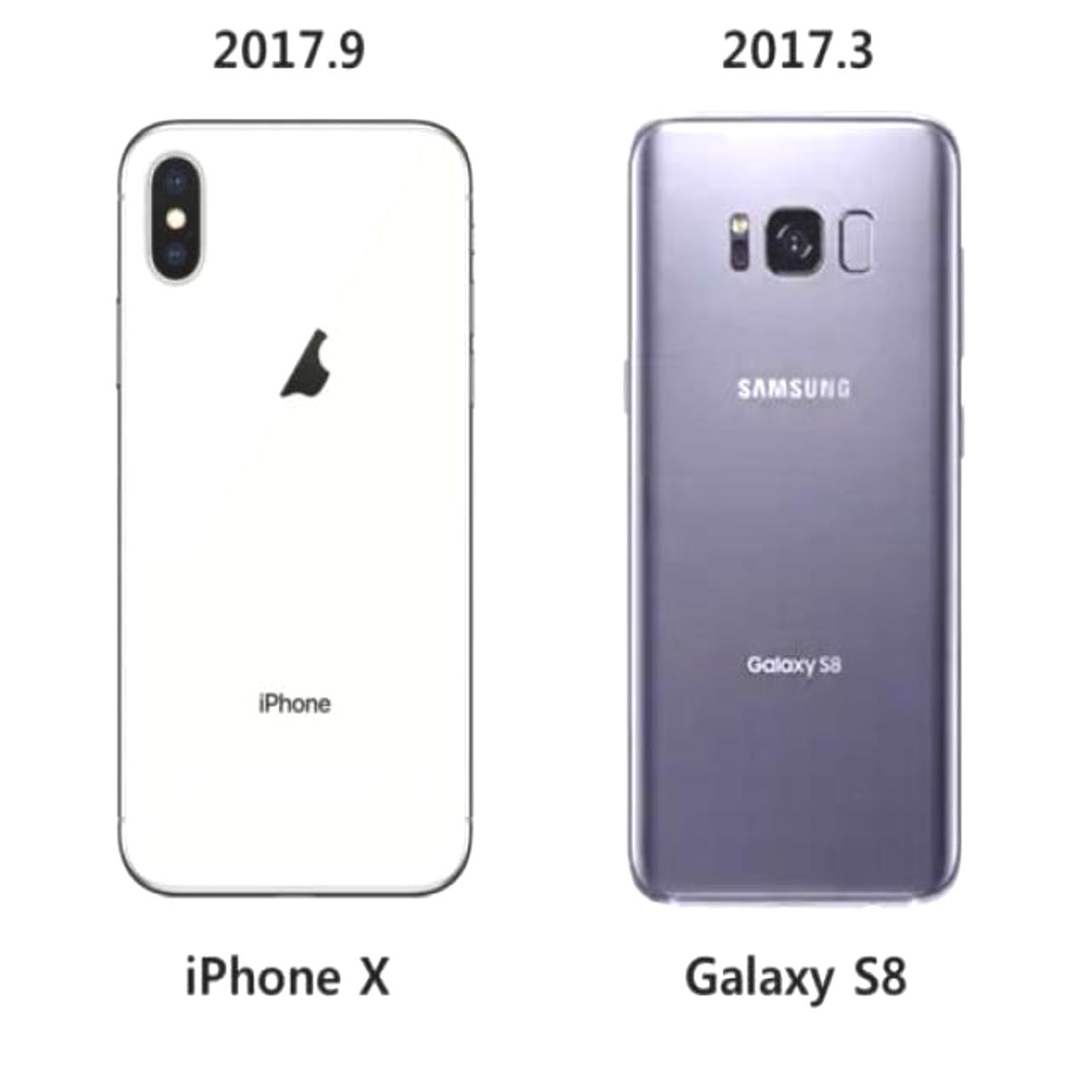phone: (111, 106, 474, 911), (622, 111, 966, 921)
